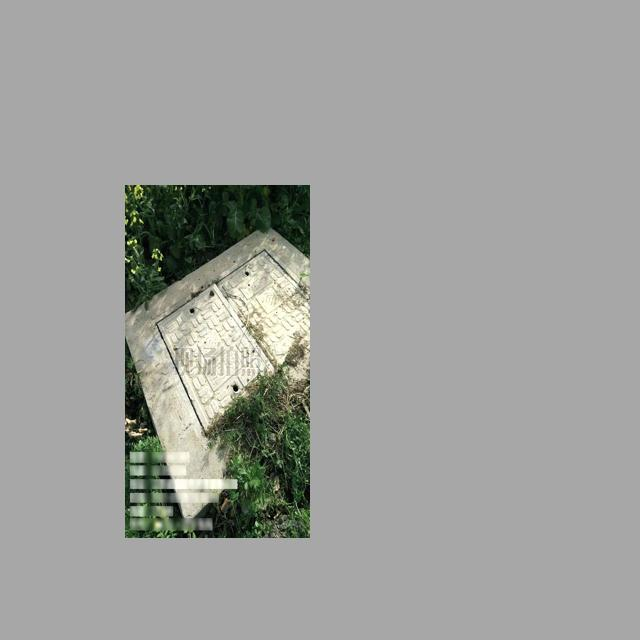uncovered: (151, 245, 310, 444)
